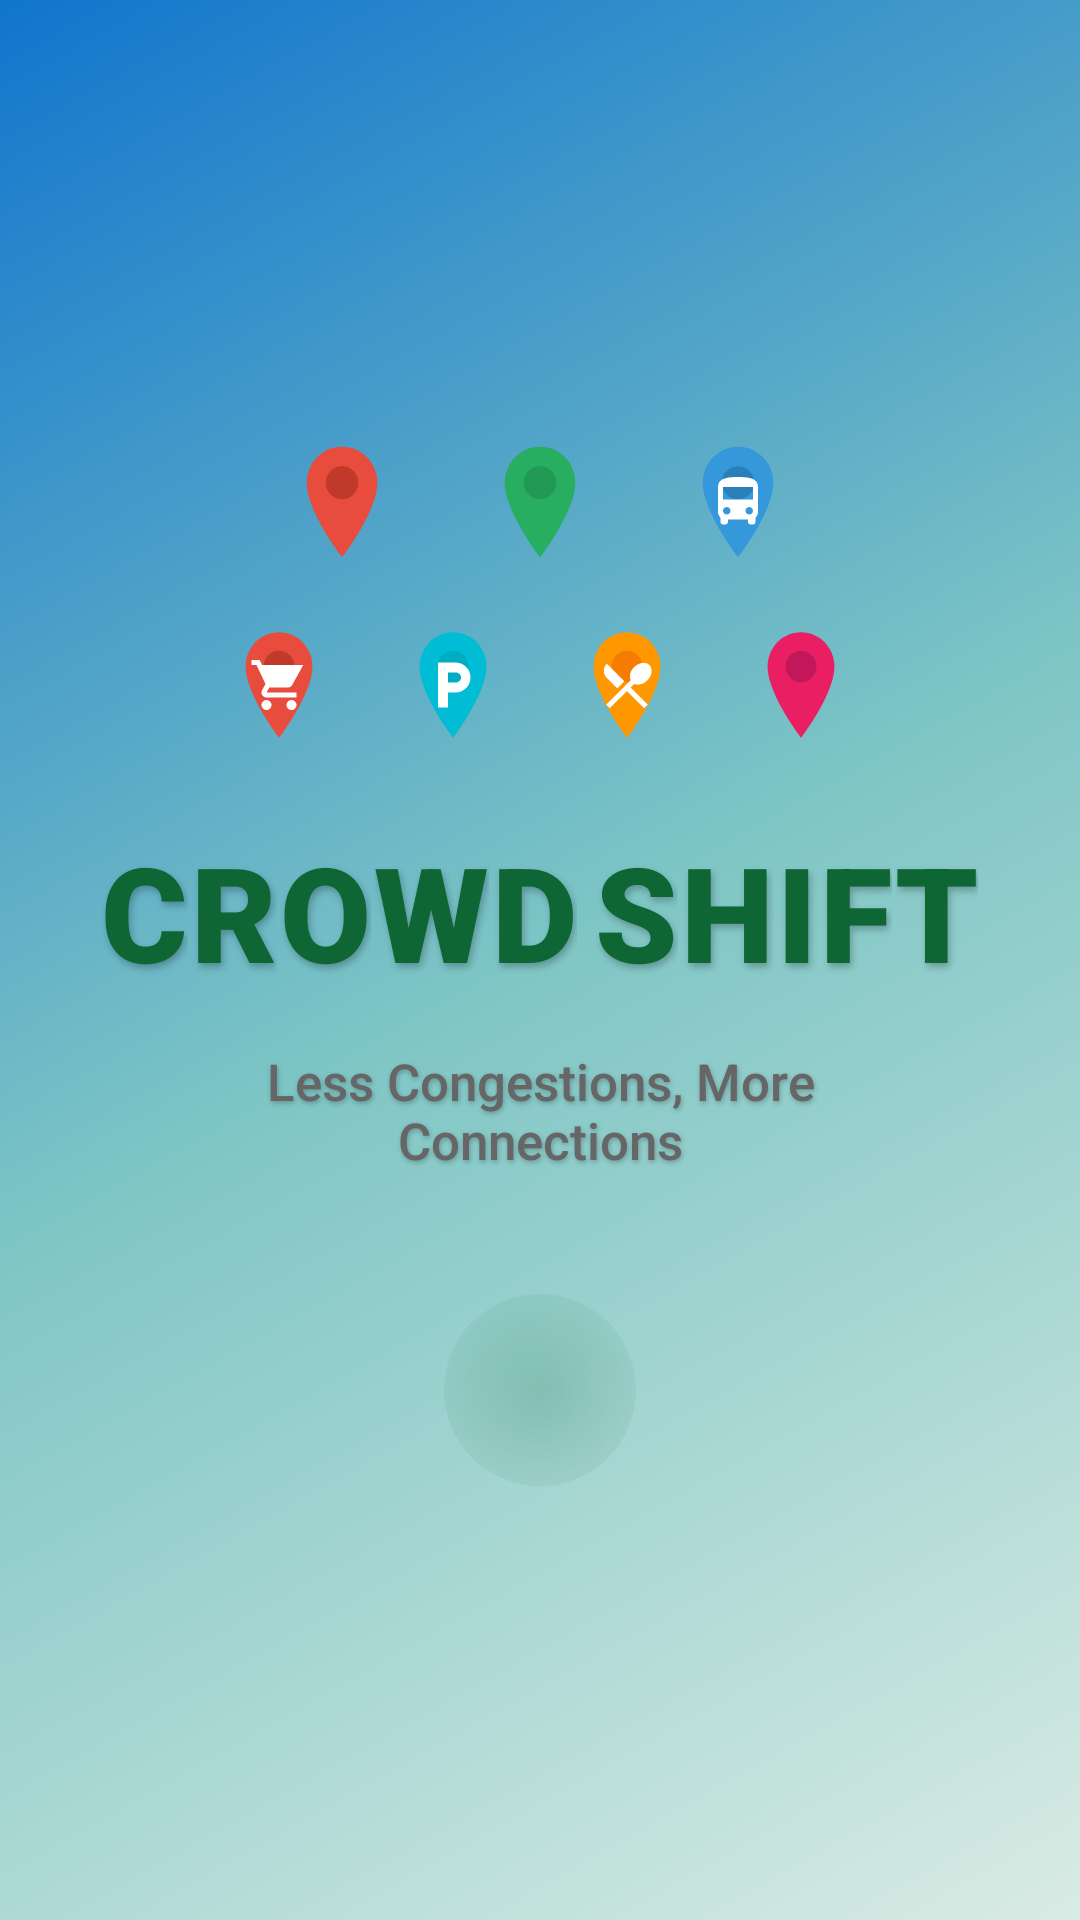

Named icons in this screenshot (1080*1920) and their bounding boxes, (x1, y1, x2, y2):
Parking: (419, 632, 487, 737)
Restaurant: (593, 632, 661, 738)
Shopping: (245, 632, 313, 738)
Transit: (703, 447, 773, 557)
